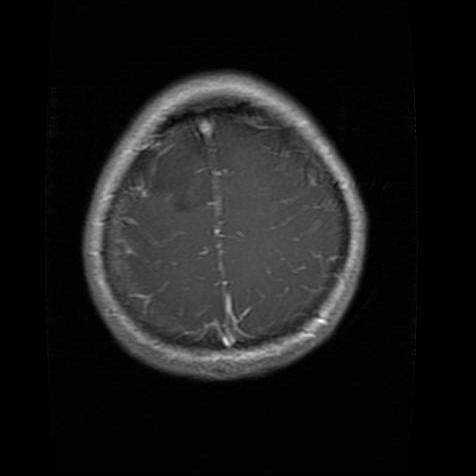Tumour-Glioma: (148, 144, 208, 211)
